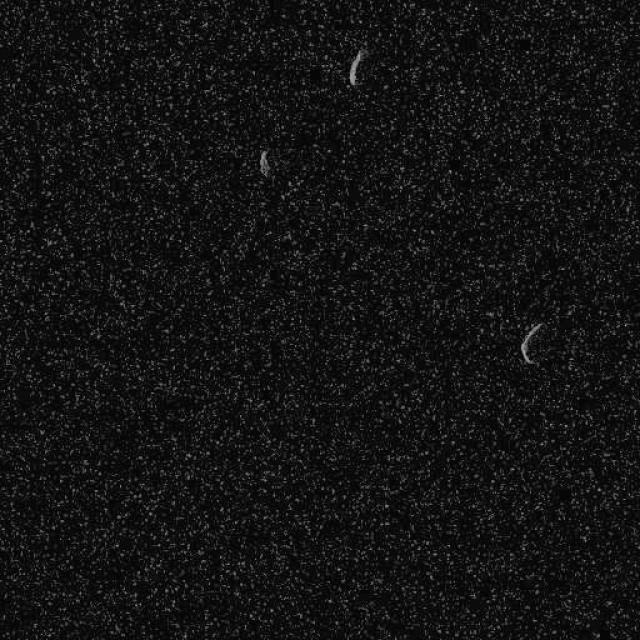D2: (519, 320, 546, 365), (346, 48, 365, 86), (258, 149, 270, 179)
